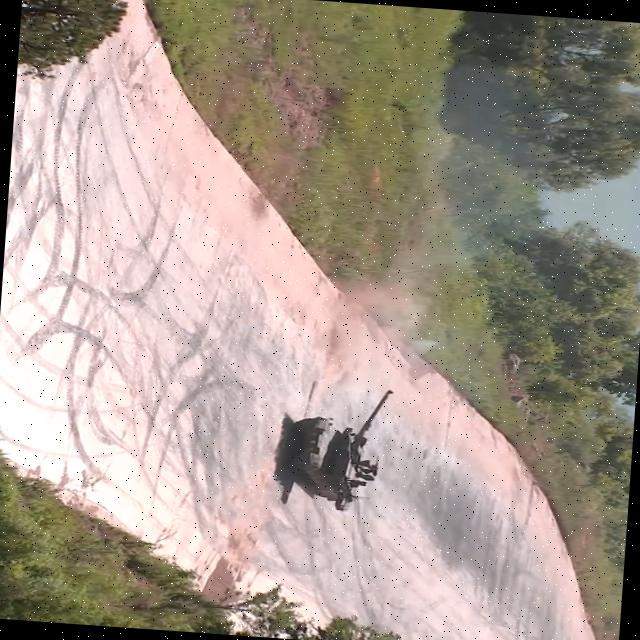korea tank: (286, 382, 398, 514)
